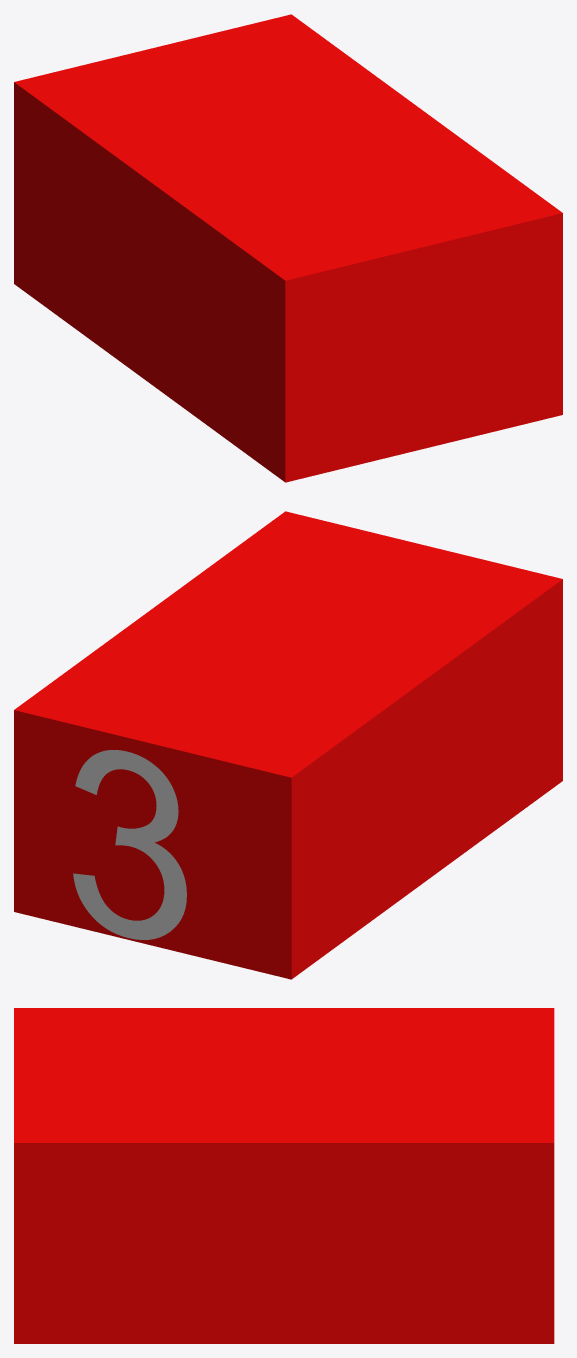
Rendered from car03.glb.
3 renders of one model, top to bottom at view 1: azimuth 30°, elevation 25°; view 2: azimuth 150°, elevation 25°; view 3: azimuth 270°, elevation 25°, orthographic.
Parts seen in each view (by area): view 1: Box001; view 2: Box001, 3; view 3: Box001.
Boxes of the visible parts, left/top/right/bottom form: Box001: left=14, top=14, right=562, bottom=482; Box001: left=14, top=511, right=562, bottom=979; 3: left=73, top=750, right=186, bottom=939; Box001: left=14, top=1008, right=554, bottom=1343.
Size of the model in its own units: 17.4 by 12.1 by 29.97.
